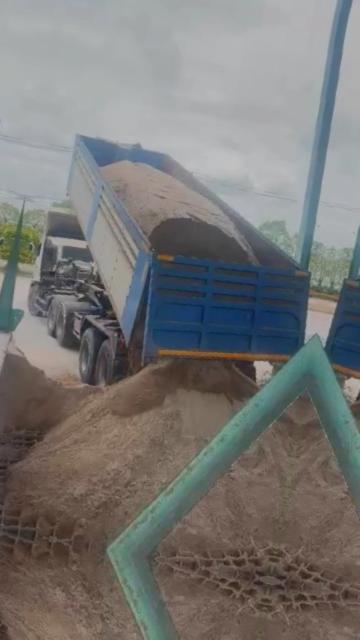sand: (8, 361, 256, 549), (160, 399, 304, 555), (102, 160, 257, 264), (0, 345, 101, 432), (134, 320, 145, 368), (56, 372, 81, 386)
